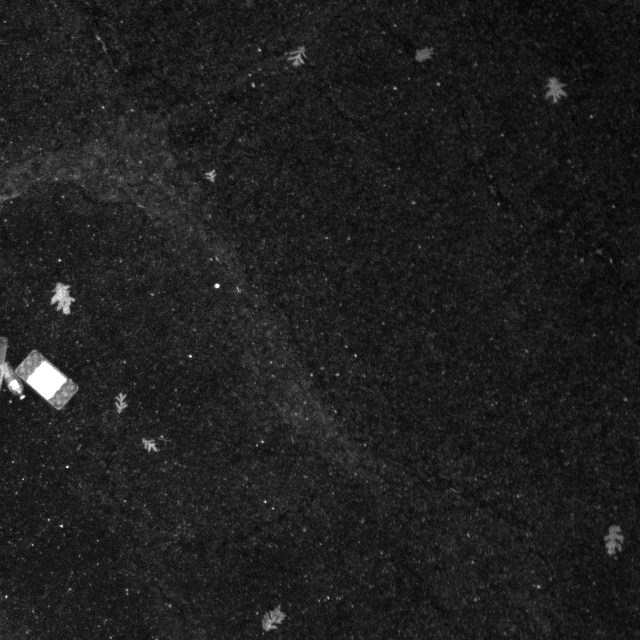container: (10, 341, 86, 410)
